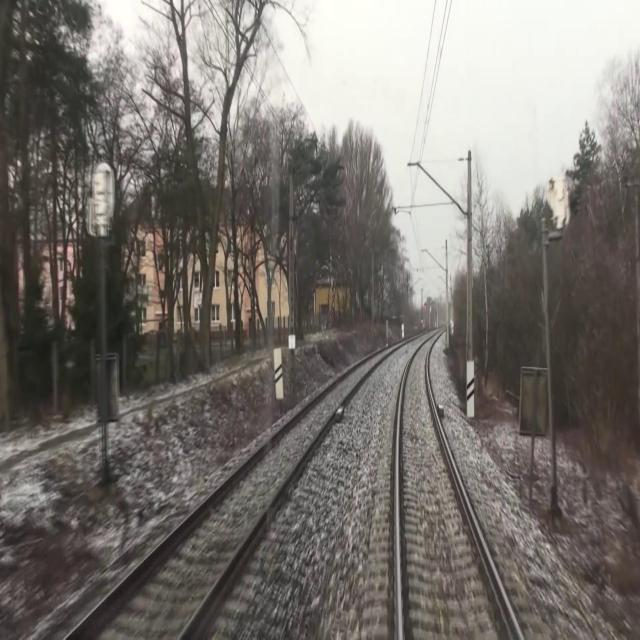rail-track: (69, 349, 389, 639), (399, 338, 518, 639)
